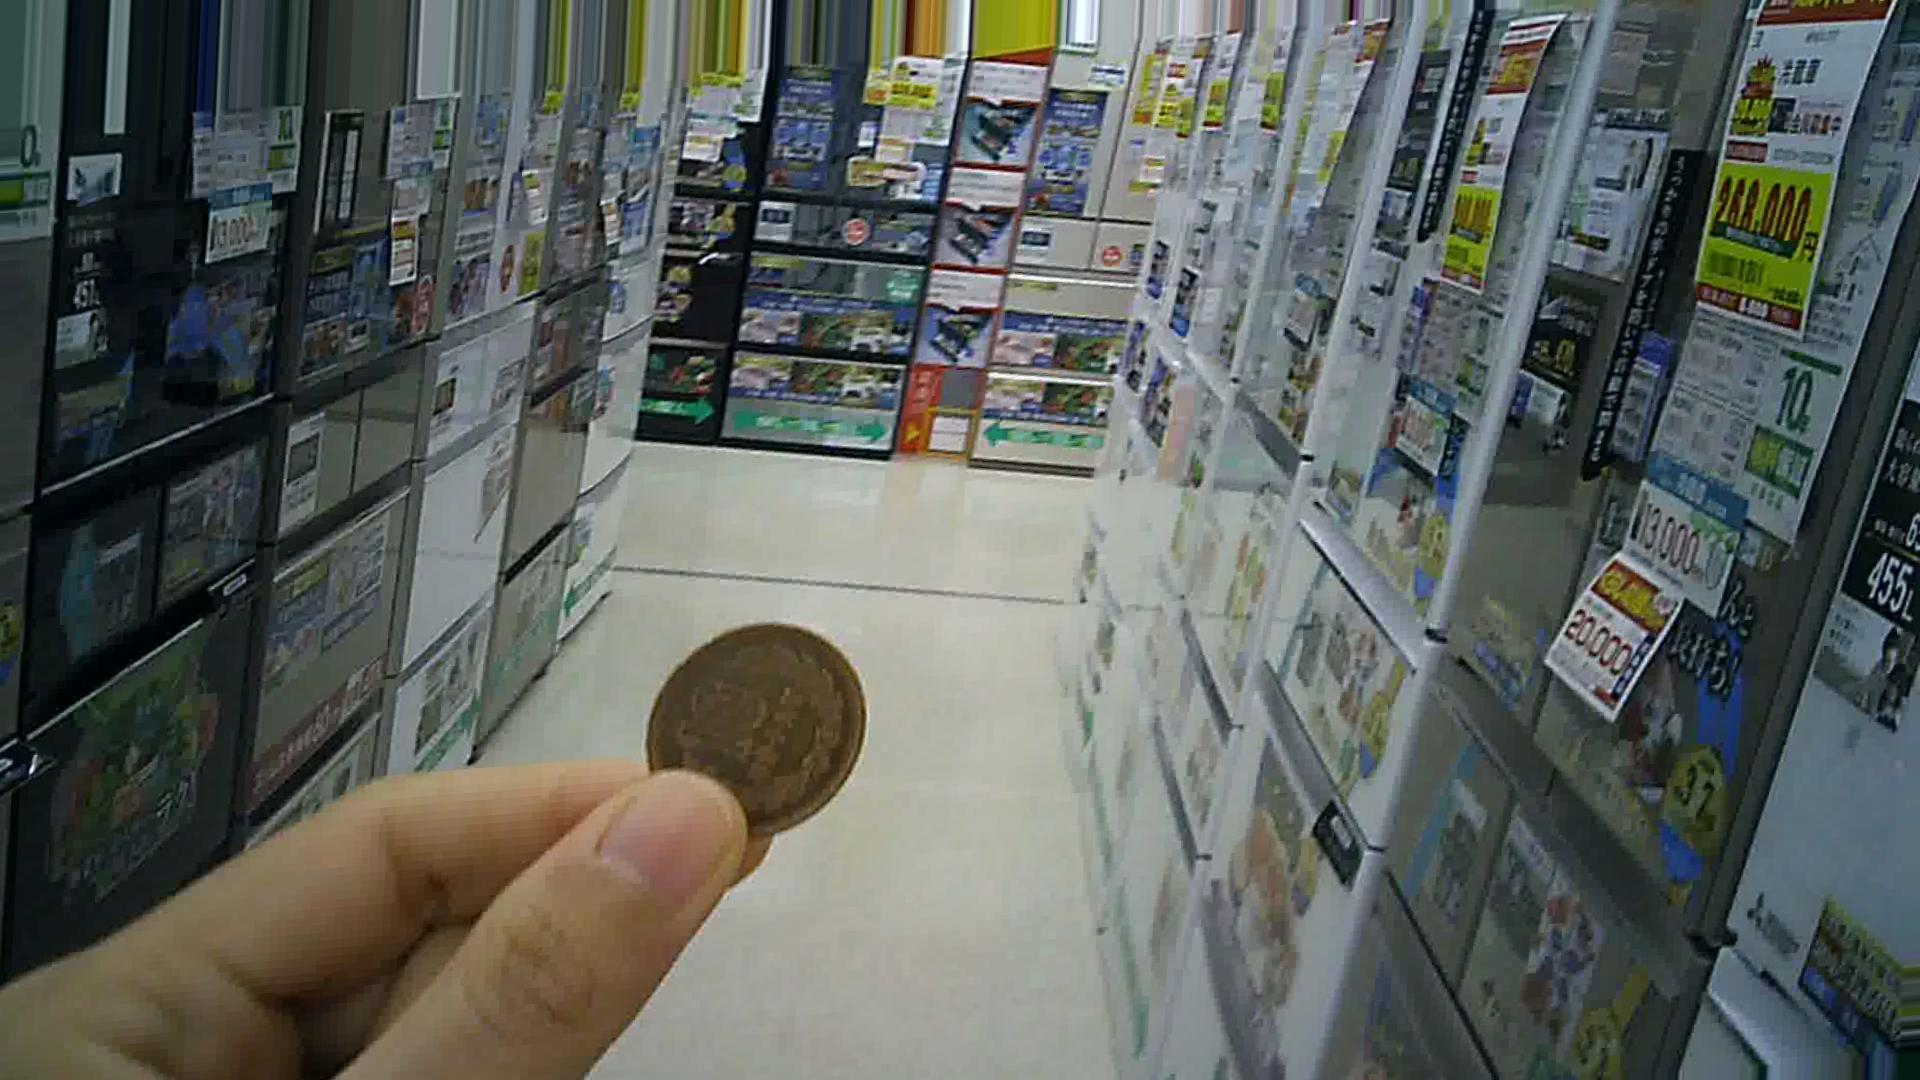10 Yen: (637, 603, 855, 833)
